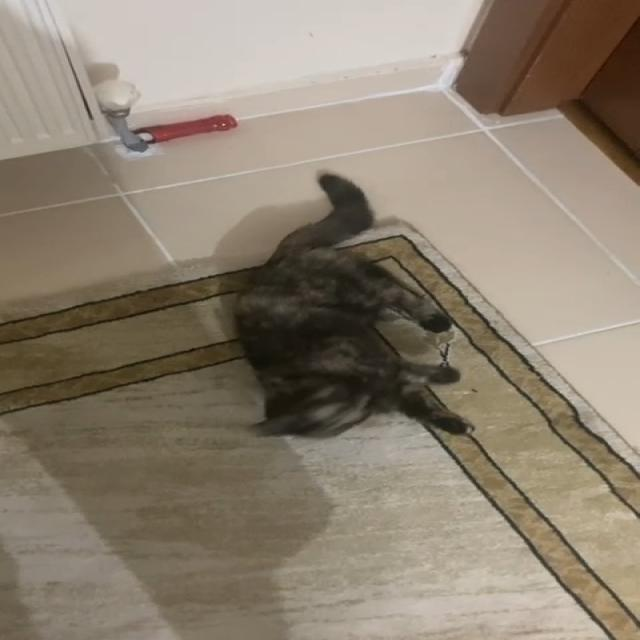authorized: (231, 171, 476, 439)
